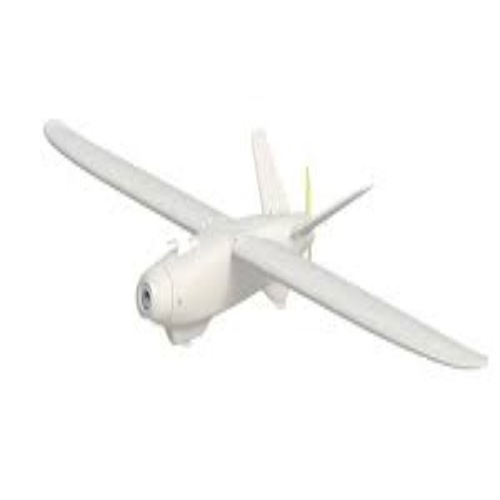uav691: (40, 119, 488, 372)
